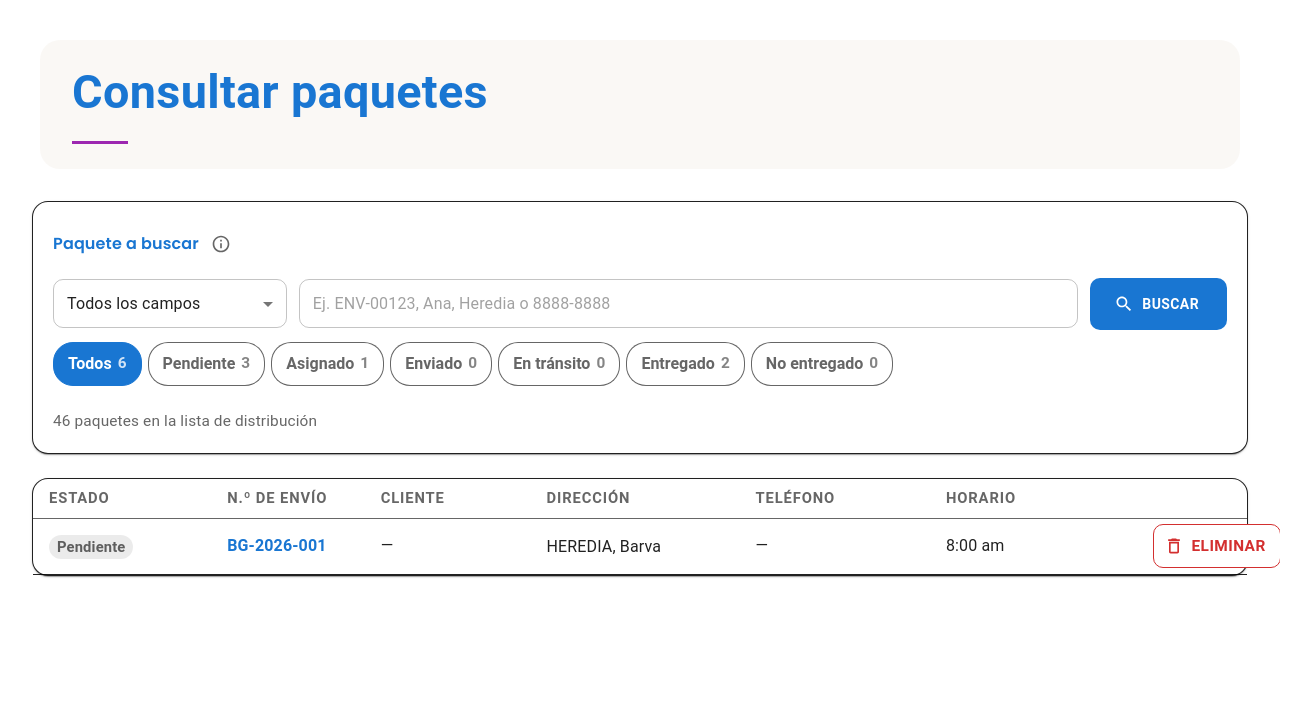
it: PackageSearchPage › shows the result count and clears the search term
Check: the message reads "46 paquetes en la lista de distribución", box [53,412,317,430]
Check: the number of links "BG-2026-001" is 1, box [227,536,327,555]
Type "Heredia" into the field named "Buscar paquetes". click: (689, 304)
box: [299,280,1078,328]
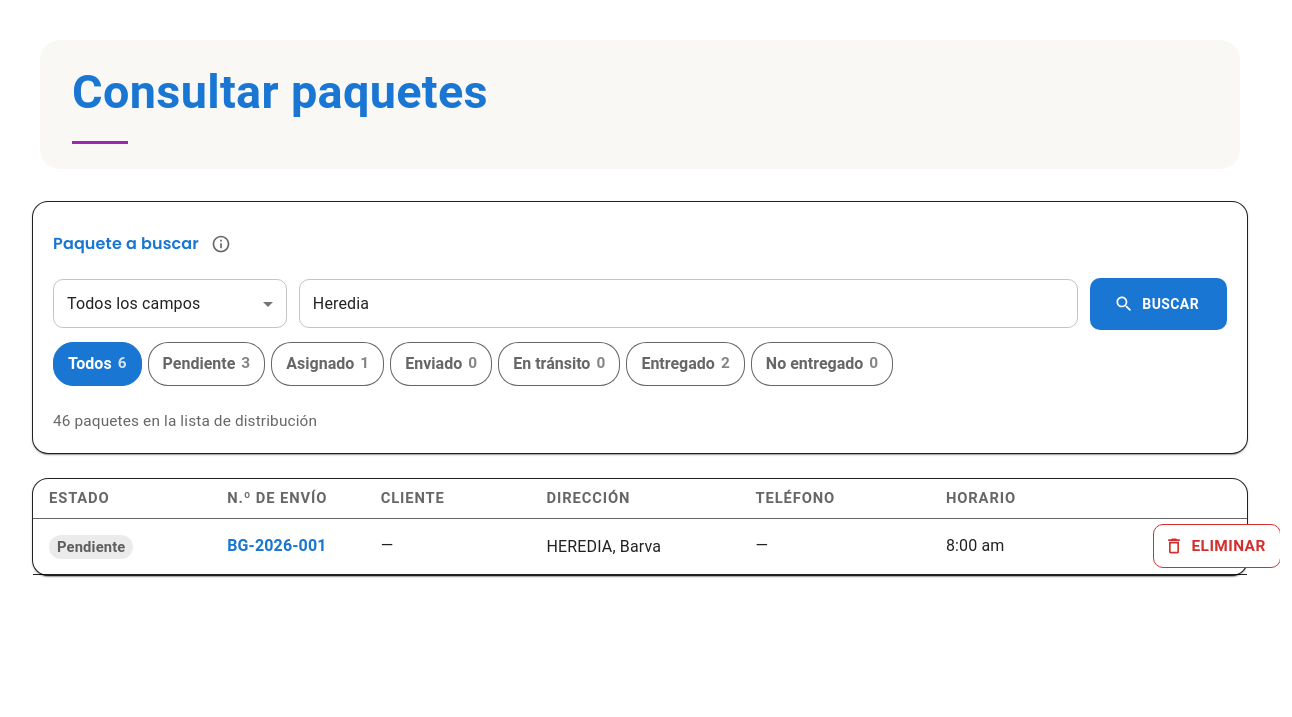
Check: the button "Limpiar" is not shown
Check: the message reads "46 paquetes en la lista de distribución", box [53,412,317,430]
Replace the text in the field named "Buscar paquetes" with "Limon". click: (689, 304)
box: [299,280,1078,328]
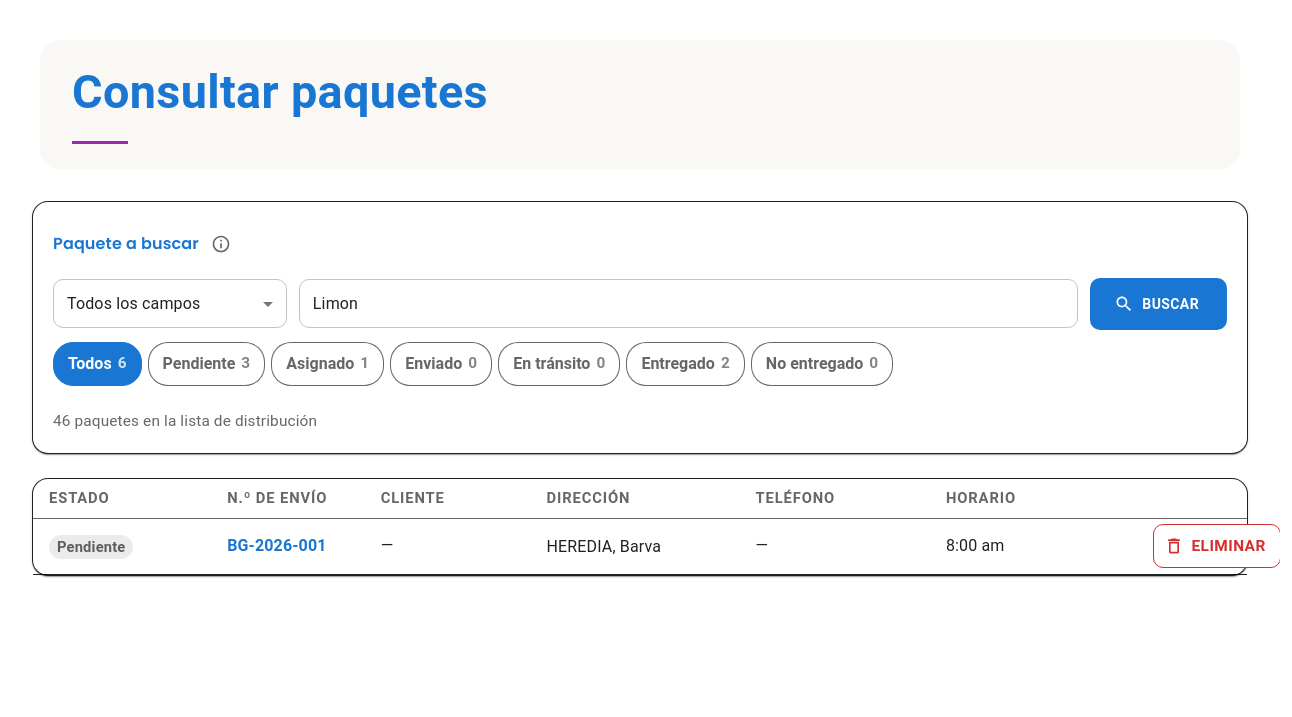
Click the button "Buscar". click: (1159, 304)
box: [1090,278,1227,330]
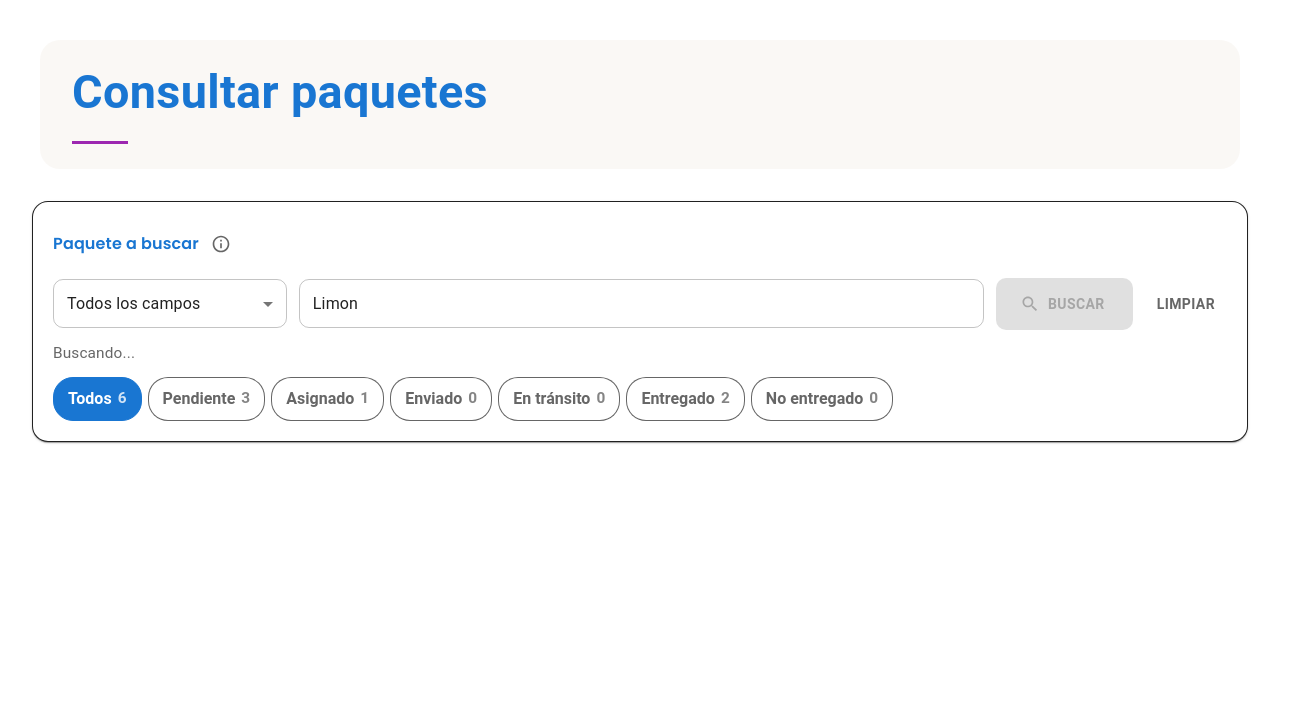
Click the button "Buscar". click: (1064, 304)
box: [996,278,1133,330]
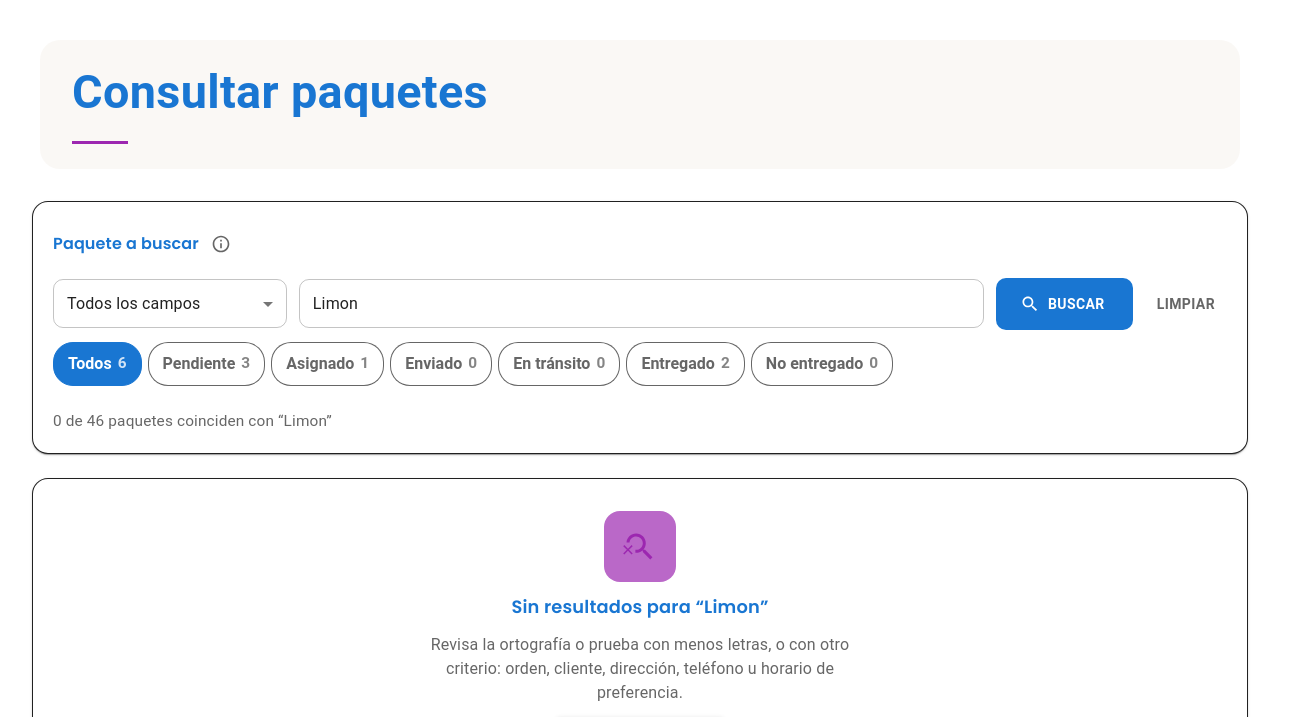
Check: the message reads "0 de 46 paquetes coinciden con “Limon”", box [53,412,332,430]
Click the button "Limpiar". click: (1186, 304)
box: [1145,286,1227,322]
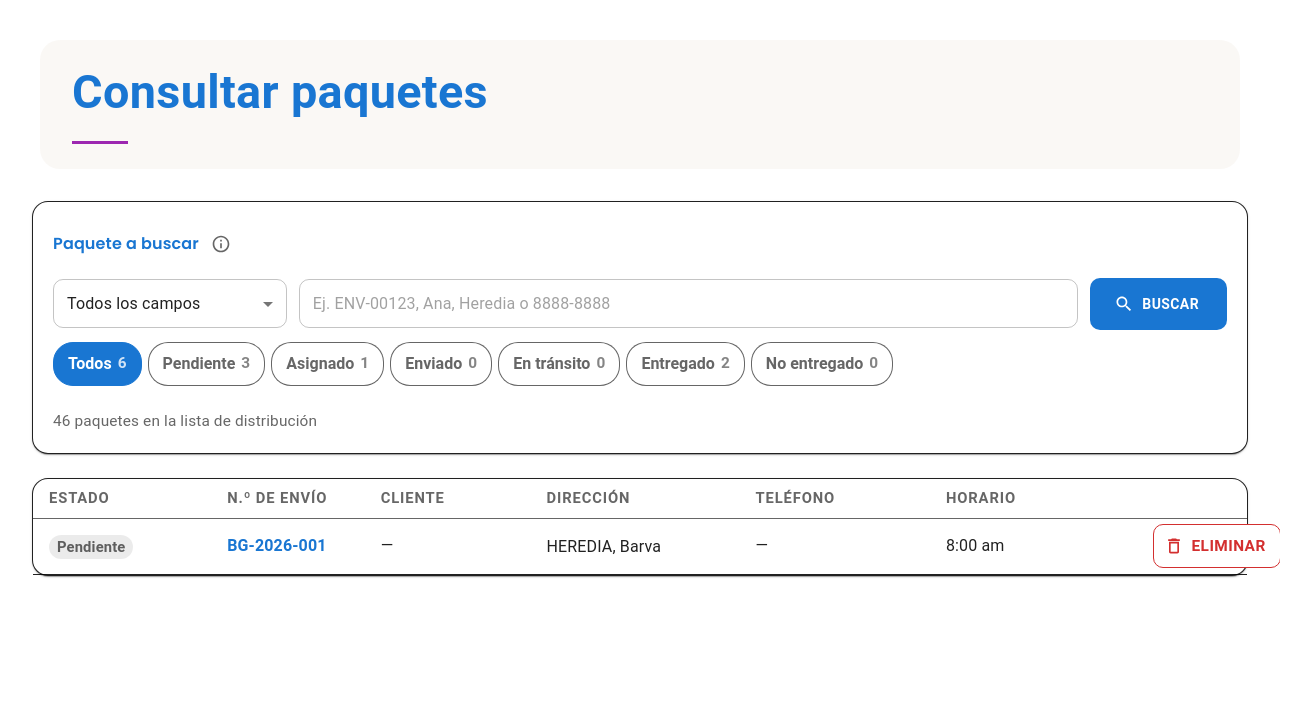
Check: the field named "Buscar paquetes" is empty, box [299,280,1078,328]
Check: the message reads "46 paquetes en la lista de distribución", box [53,412,317,430]
